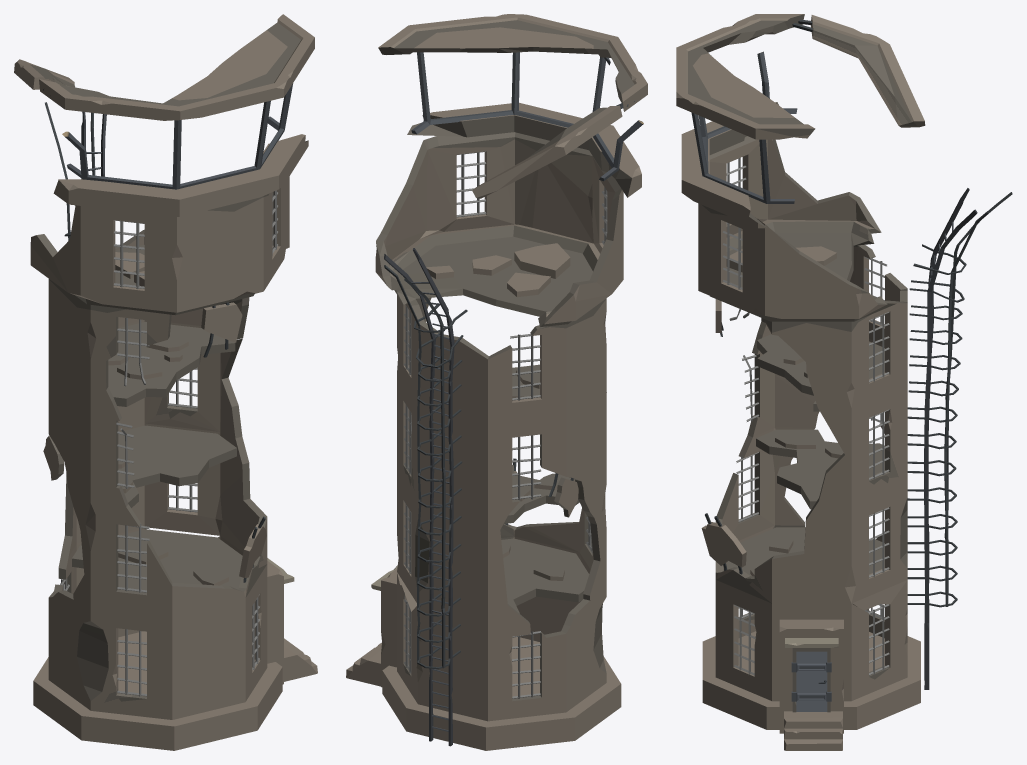
The model's file is SM_Bld_ControlTower_Destroyed_01.glb.
3 views of the same model, side by side, from view 1: azimuth 30°, elevation 25°; view 2: azimuth 150°, elevation 25°; view 3: azimuth 270°, elevation 25° (orthographic). The views are drawn at different scales.
Visible parts, largest first — view 1: SM_Bld_ControlTower_Destroyed_01; view 2: SM_Bld_ControlTower_Destroyed_01; view 3: SM_Bld_ControlTower_Destroyed_01.
Part boxes in pixels (bbox=[...]): SM_Bld_ControlTower_Destroyed_01: bbox=[14, 14, 317, 750]; SM_Bld_ControlTower_Destroyed_01: bbox=[346, 14, 647, 750]; SM_Bld_ControlTower_Destroyed_01: bbox=[676, 14, 1012, 750].
Size of the model in its own units: 9.81 by 22.49 by 11.18.
Materials: 1 (1 with a texture image).
